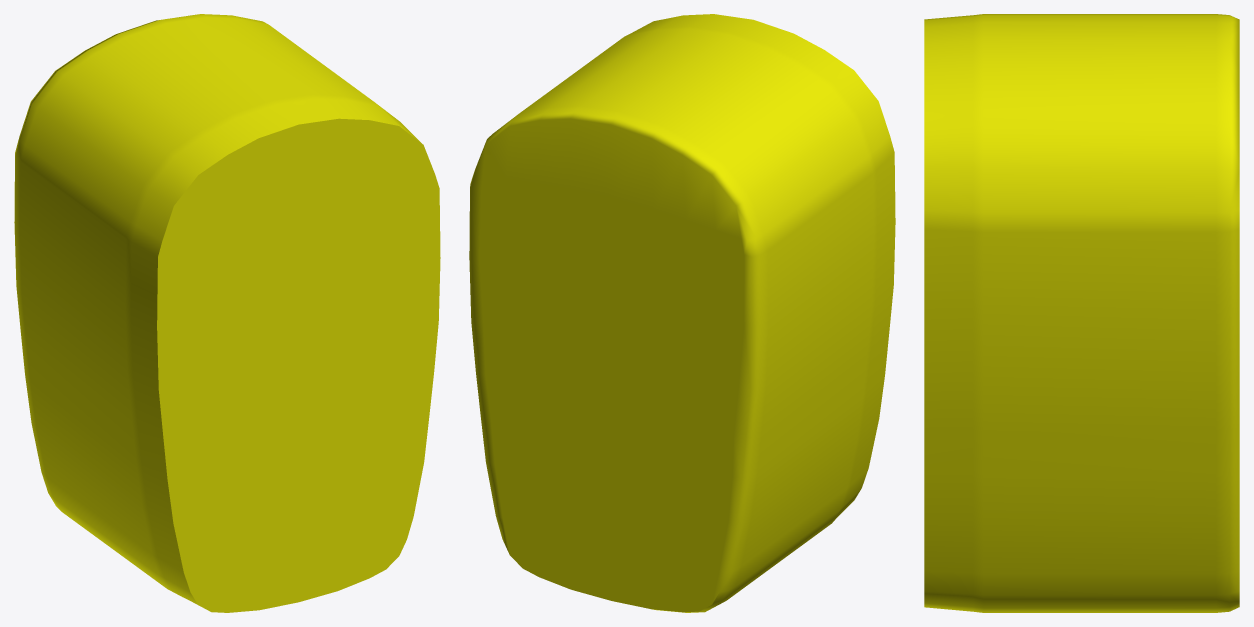
File: FancyBarfridge.fbx
3 renders of one model, left to right at view 1: azimuth 30°, elevation 25°; view 2: azimuth 150°, elevation 25°; view 3: azimuth 270°, elevation 25°, orthographic. The views are drawn at different scales.
Visible parts, largest first — view 1: FancyFridge_Outline4; view 2: FancyFridge_Outline4; view 3: FancyFridge_Outline4.
Part boxes in pixels (x1,y1,x2,y2): FancyFridge_Outline4: [14, 14, 440, 612]; FancyFridge_Outline4: [469, 14, 895, 612]; FancyFridge_Outline4: [924, 14, 1239, 612].
Size of the model in its own units: 133 by 211 by 112.
